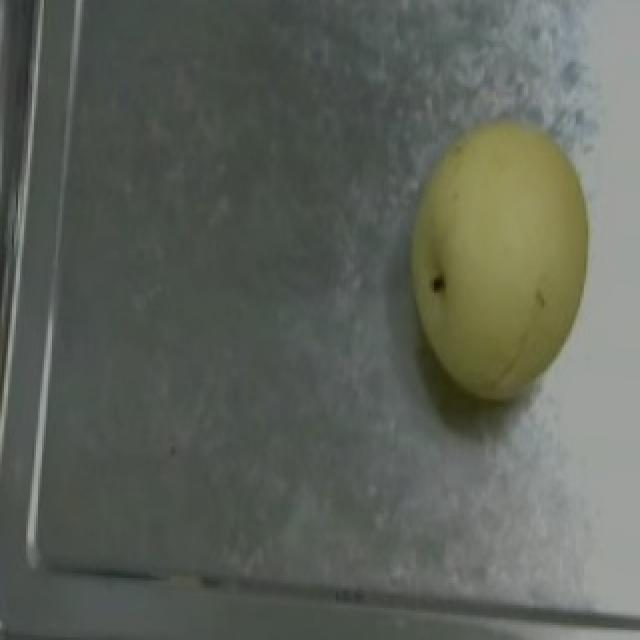Fruit: (366, 94, 626, 412)
